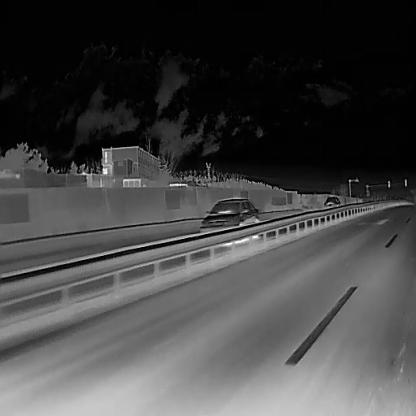car: (198, 197, 260, 242), (322, 195, 340, 209)
